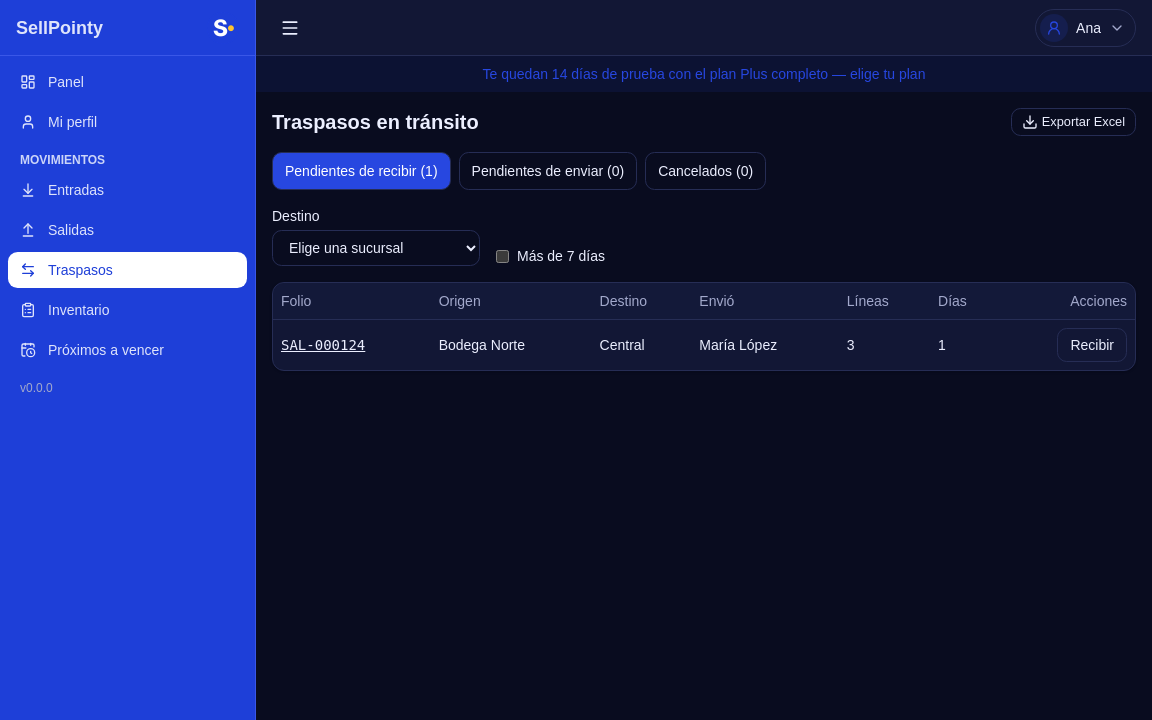
Scenario: Lanzar la recepción (F3-TRANSFER-06) › un 409 se explica y no navega
The image size is (1152, 720).
Expected: the link "SAL-000124" is shown, [281,337,365,353]
What coordinates should you click on to do the following:
click the button "Recibir"
I would click on:
 (1092, 345)
Its box is [1057,328,1127,362].
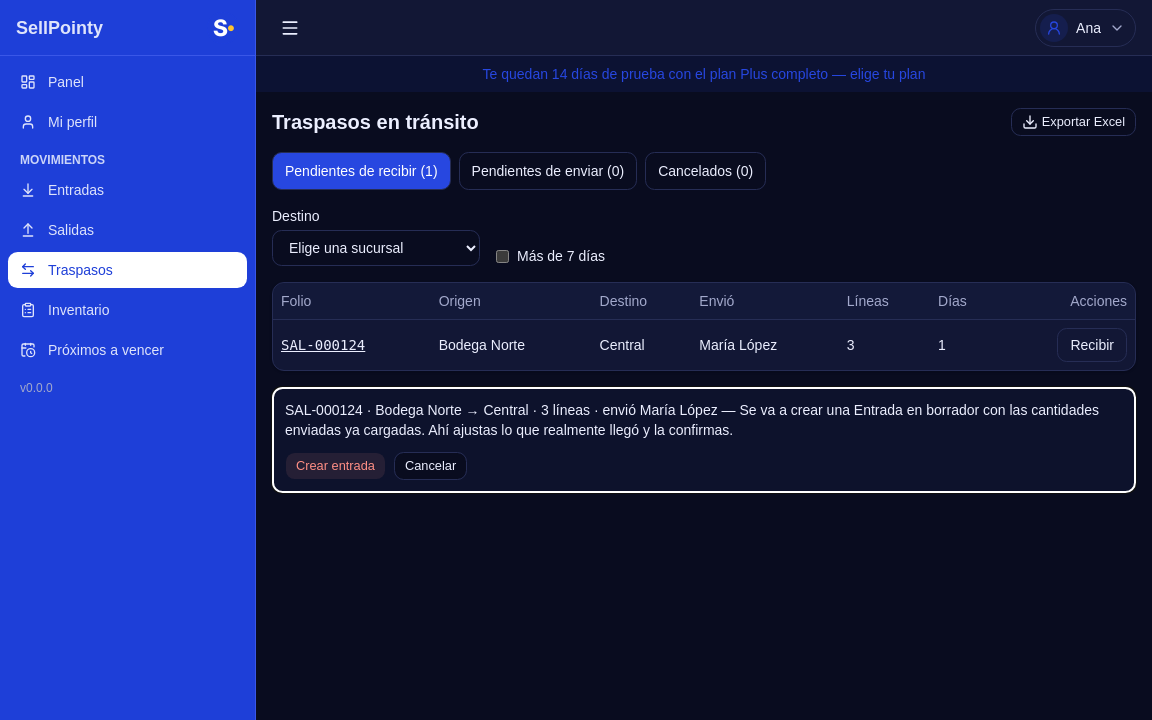
What coordinates should you click on to do the following:
click the button "Crear entrada"
I would click on:
 (336, 466)
Its box is [285,452,386,480].
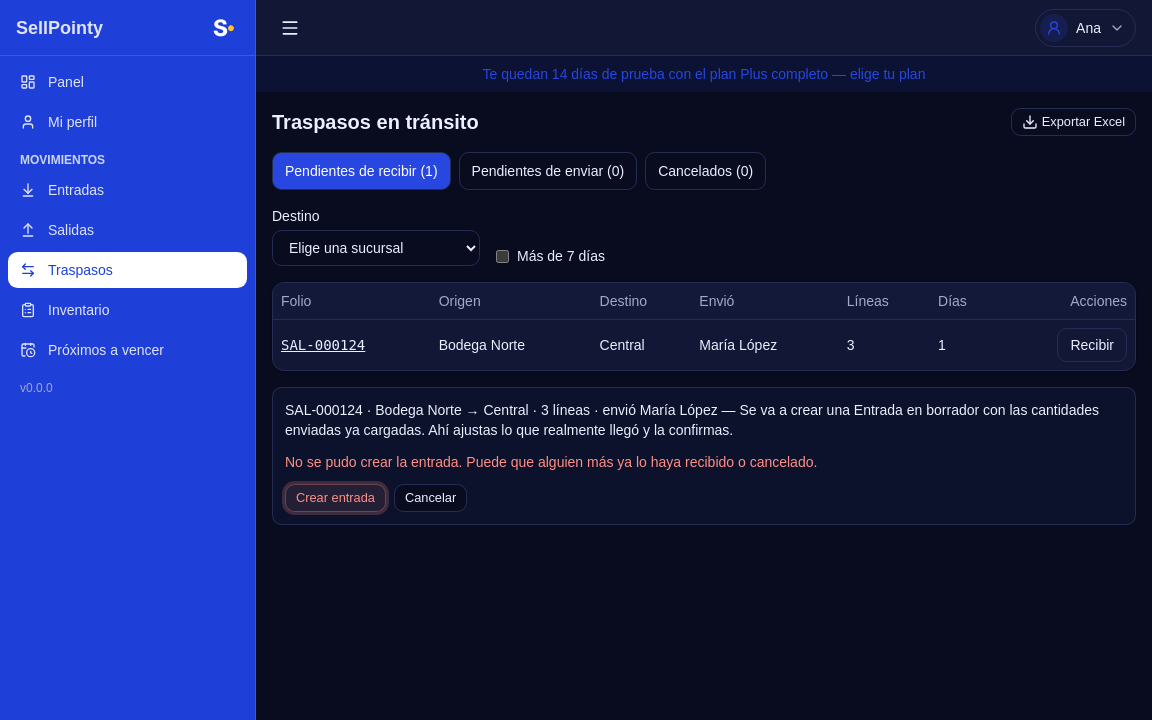
Expected: the message is shown, [285,454,817,470]
